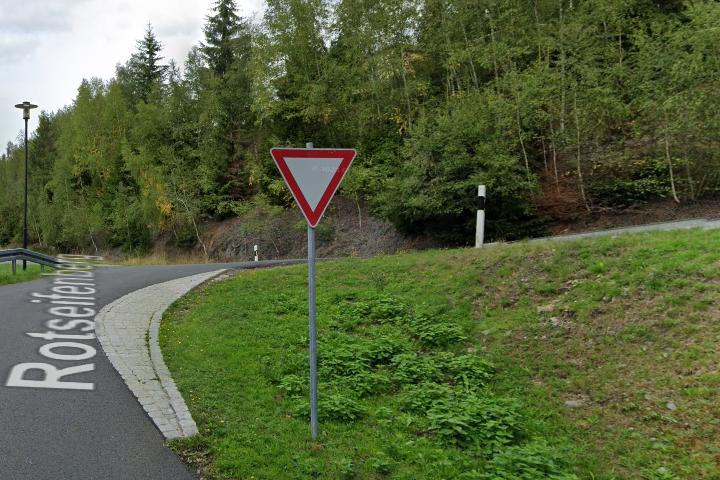traffic_sign: (270, 146, 357, 228)
